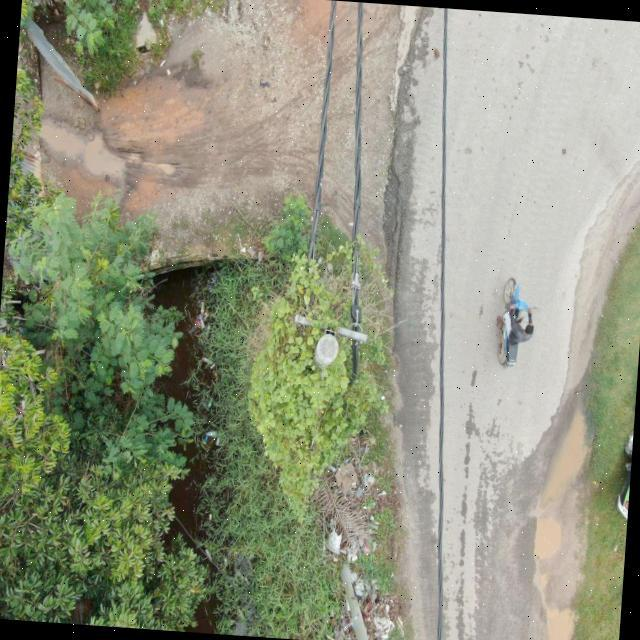critical vegetation: (229, 242, 384, 528)
